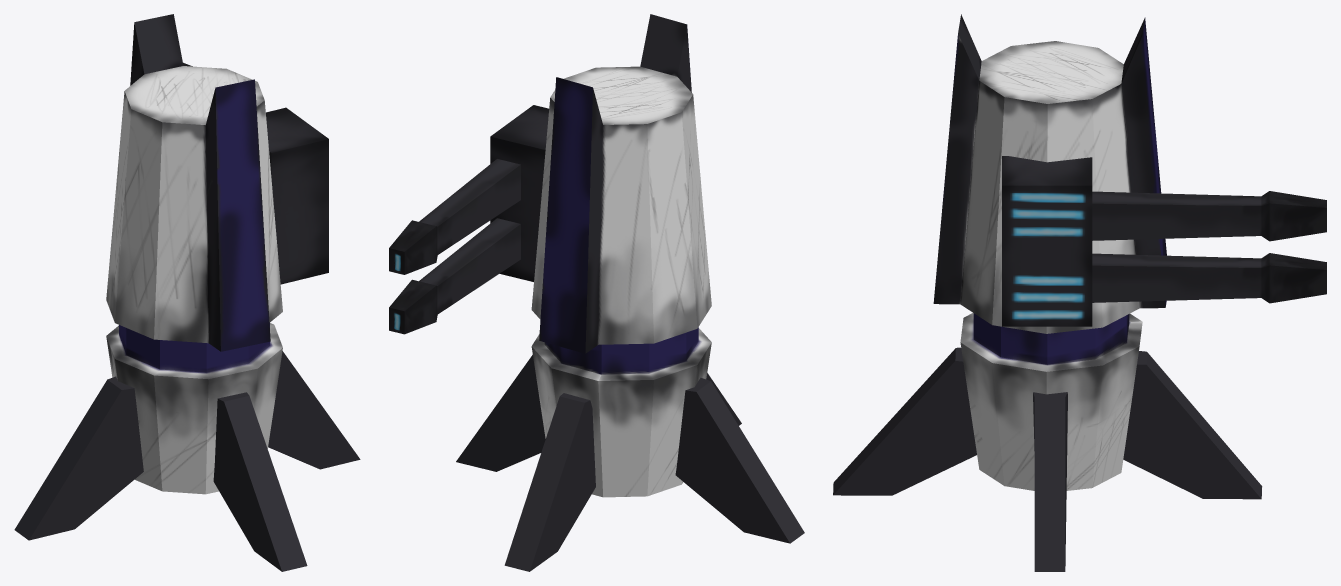
Rendered from TDTowerNormal2.fbx.
3 views of the same model, side by side, from view 1: azimuth 30°, elevation 25°; view 2: azimuth 150°, elevation 25°; view 3: azimuth 270°, elevation 25° (orthographic). The views are drawn at different scales.
Parts seen in each view (by area): view 1: polySurface458, polySurface479; view 2: polySurface458, polySurface479; view 3: polySurface458, polySurface479.
Part boxes in pixels (bbox=[...]): polySurface458: bbox=[106, 14, 328, 351]; polySurface479: bbox=[14, 323, 360, 571]; polySurface458: bbox=[389, 14, 711, 353]; polySurface479: bbox=[456, 327, 804, 571]; polySurface458: bbox=[933, 14, 1326, 333]; polySurface479: bbox=[833, 313, 1262, 571].
Size of the model in its own units: 12.48 by 15.87 by 15.26.
